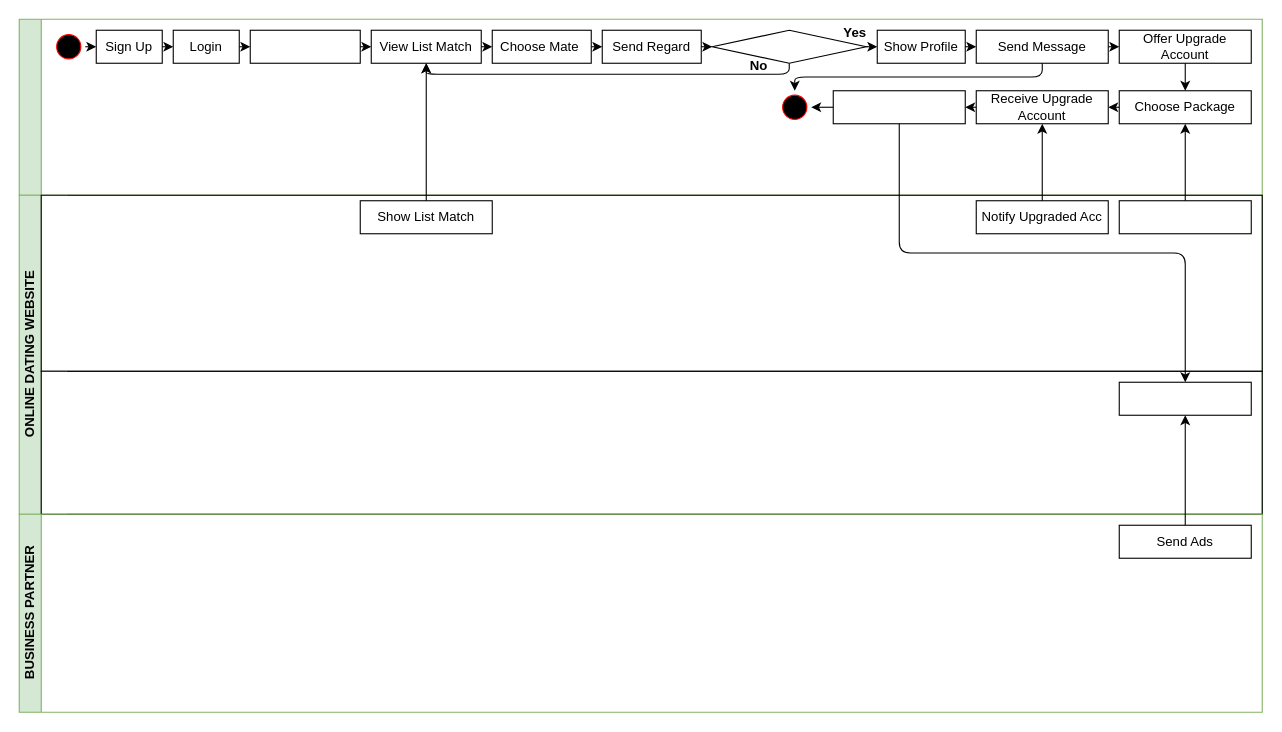
This 1282x732 diagram has some shape labels left out. Each missing label, with the box of its shape:
Account Updated: (832, 90, 965, 124)
ADMIN: (40, 194, 1262, 371)
FINANCIAL: (40, 370, 1262, 514)
Make Payment: (1118, 381, 1251, 415)
Reply Regard: (711, 29, 866, 63)
Show Upgraded Acc Package List: (1118, 200, 1251, 234)
Submit Profile: (249, 29, 360, 63)
USER: (18, 18, 1262, 195)
